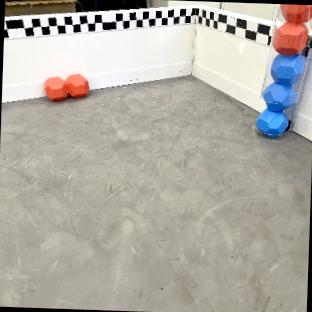V5_BLUE: (256, 54, 304, 136)
V5_RED: (273, 4, 312, 53), (44, 73, 89, 100)
